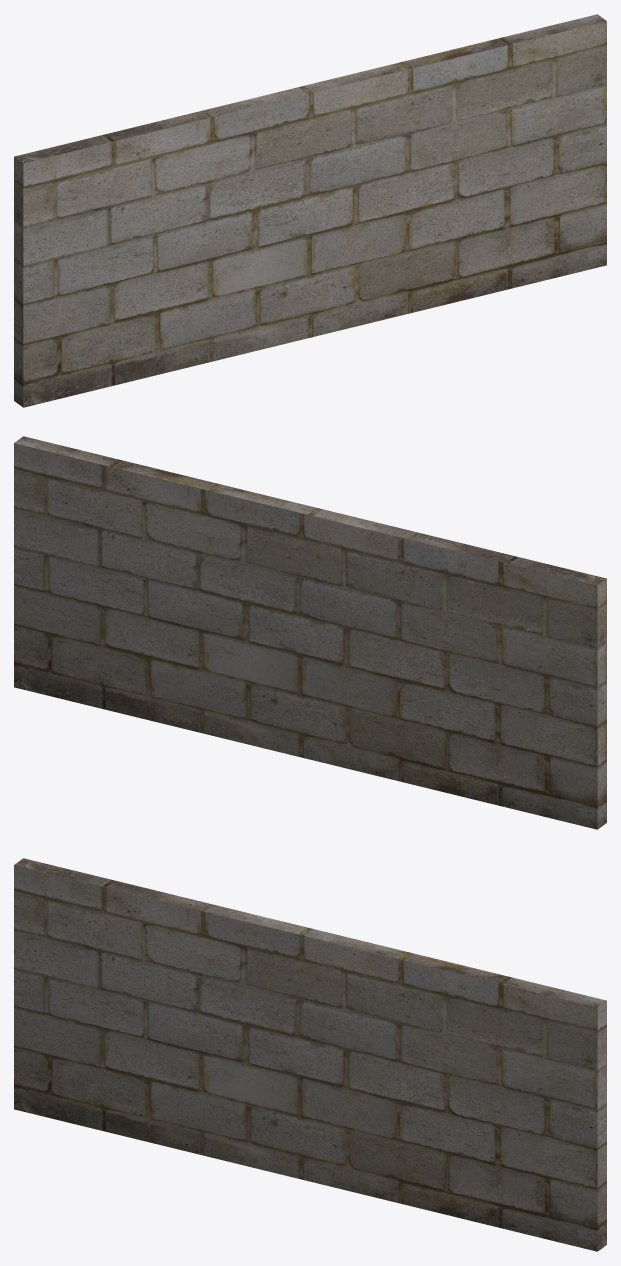
Rendered from cinderblock_wall5x2m.dae.
3 renders of one model, top to bottom at view 1: azimuth 30°, elevation 25°; view 2: azimuth 150°, elevation 25°; view 3: azimuth 330°, elevation 25°, orthographic.
Visible parts, largest first — view 1: SketchUp; view 2: SketchUp; view 3: SketchUp.
Part boxes in pixels (bbox=[...]): SketchUp: bbox=[14, 14, 606, 407]; SketchUp: bbox=[14, 436, 606, 829]; SketchUp: bbox=[14, 858, 606, 1251].
Bounding box in the file's own units: 197 × 5.51 × 78.74.
1 material, 1 textured.
